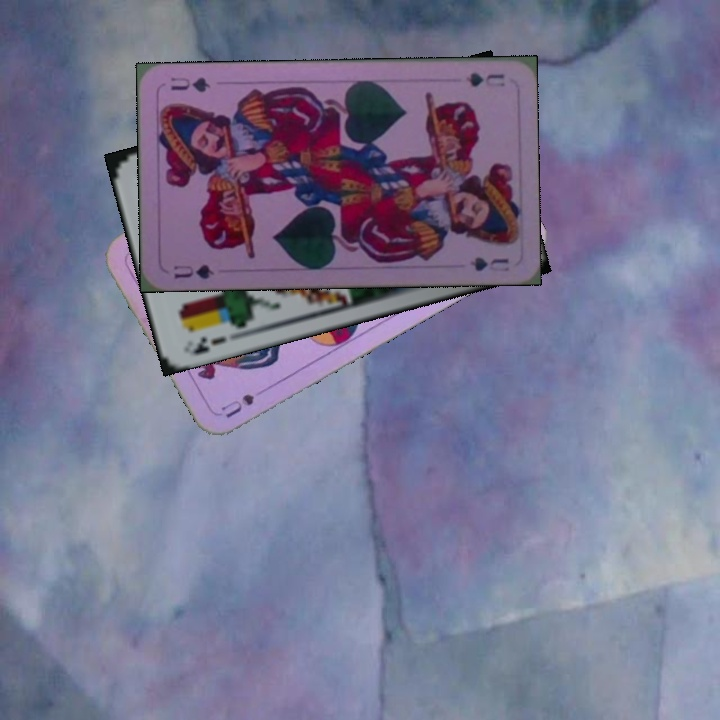EK: (183, 332, 228, 358)
GU: (170, 260, 216, 282), (462, 68, 508, 90)
SU: (217, 389, 257, 421)
